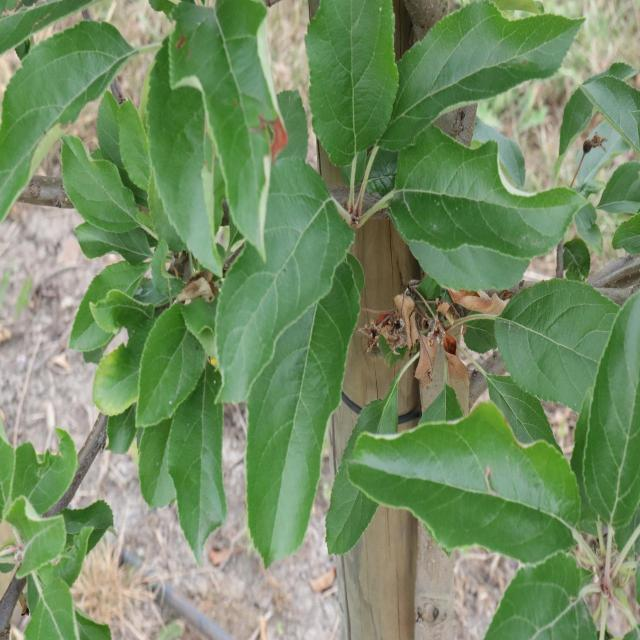-FireBlight-: (382, 295, 475, 395)
